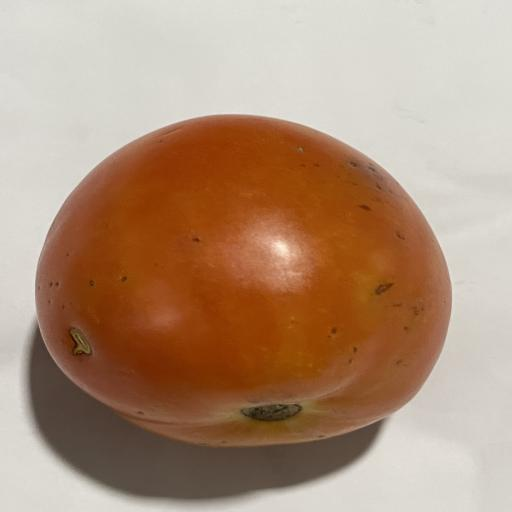ripe: (36, 115, 451, 447)
